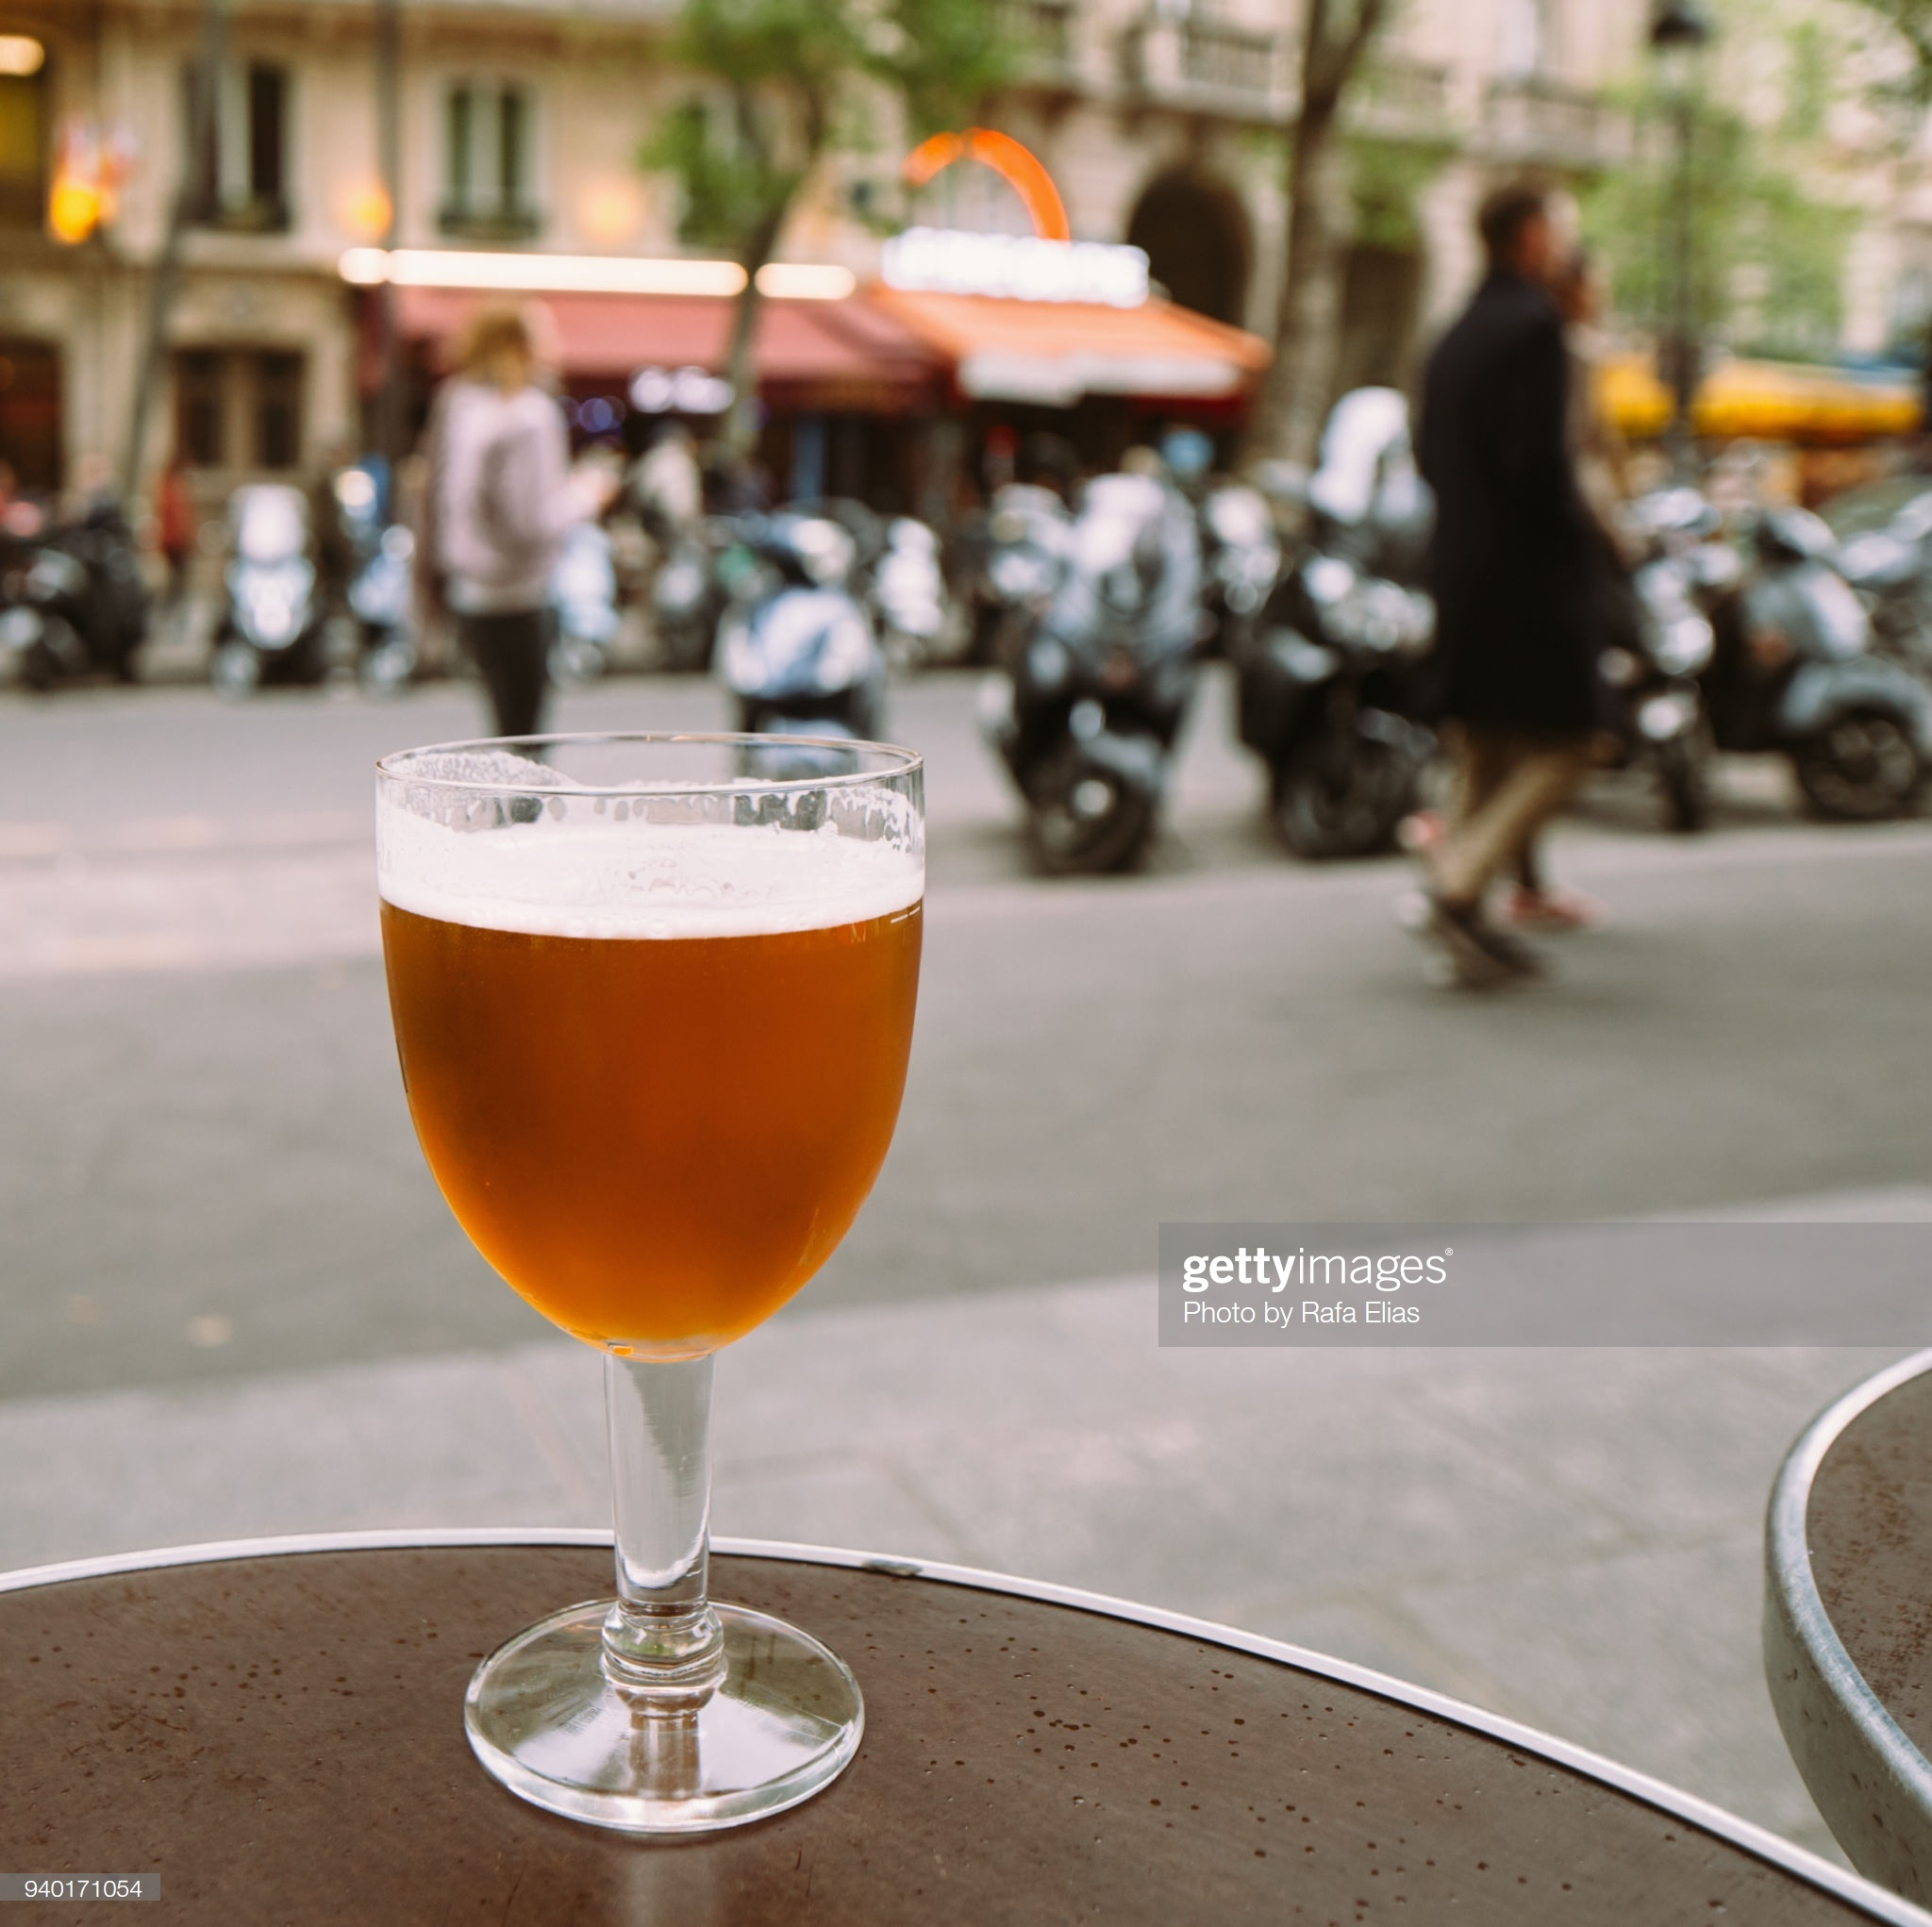glassBeer: (374, 736, 946, 1830)
